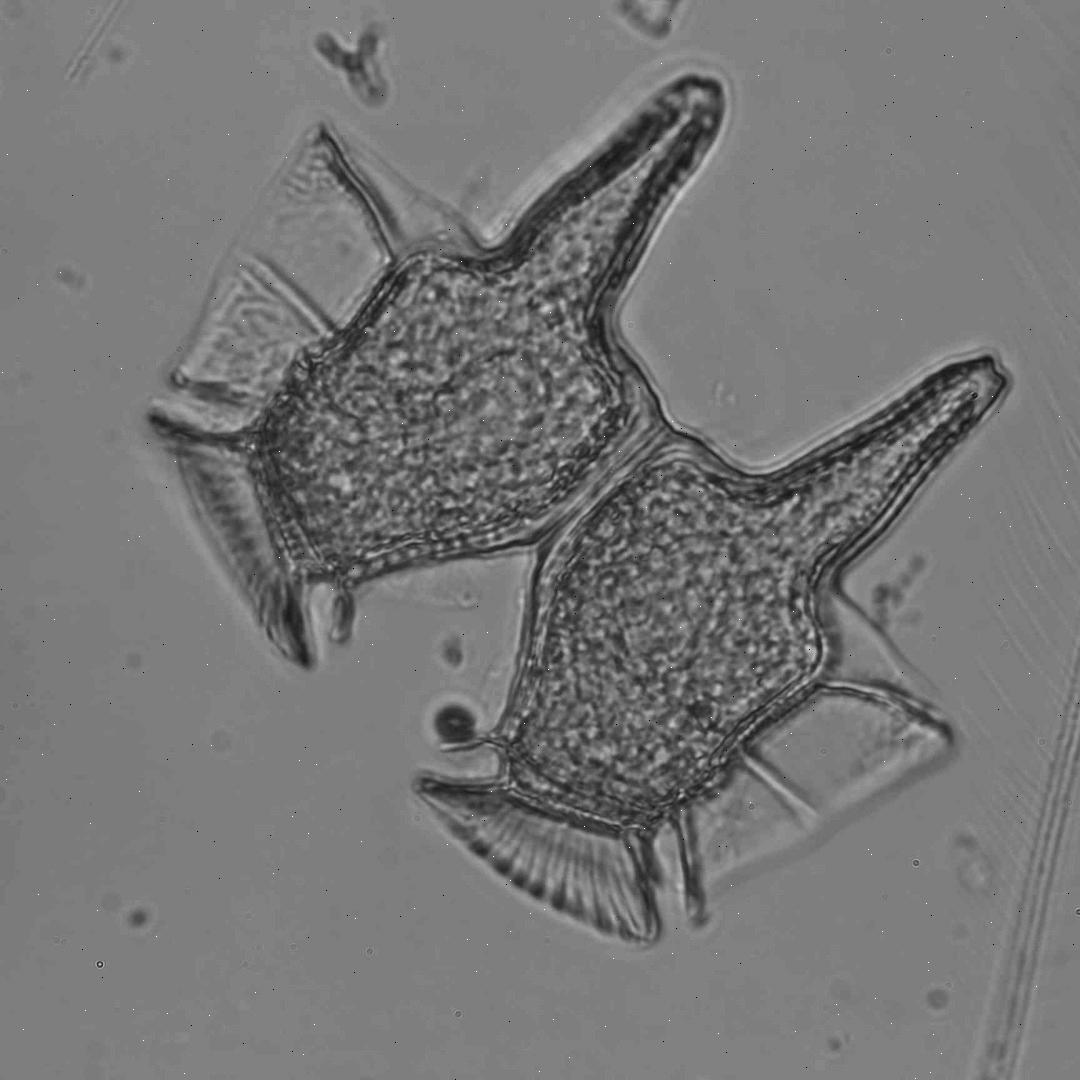dinophysis_caudata: (407, 353, 1014, 952), (143, 78, 723, 679)
